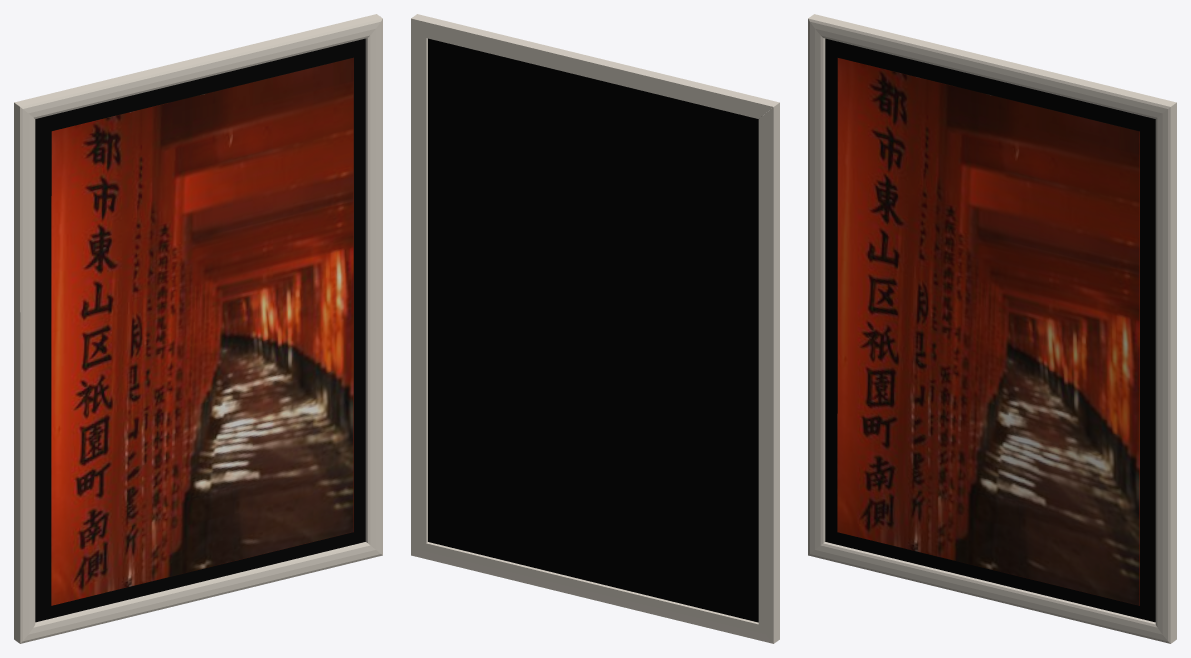
File: sweethome3d-contributions-frame-inari.glb
The picture shows the model from 3 angles, left to right: view 1: azimuth 30°, elevation 25°; view 2: azimuth 150°, elevation 25°; view 3: azimuth 330°, elevation 25°; orthographic projection.
Visible parts, largest first — view 1: Photo_Cube_Material_Inari.jpg, MetalFrame_Cylinder_Aluminium.006, Frame_Black_Material.007; view 2: Frame_Black_Material.007, MetalFrame_Cylinder_Aluminium.006; view 3: Photo_Cube_Material_Inari.jpg, MetalFrame_Cylinder_Aluminium.006, Frame_Black_Material.007.
Boxes of the visible parts, x1,y1,x2,y2 form: Photo_Cube_Material_Inari.jpg: (51,57,353,605); MetalFrame_Cylinder_Aluminium.006: (14,14,382,643); Frame_Black_Material.007: (35,38,365,622); Frame_Black_Material.007: (428,38,758,622); MetalFrame_Cylinder_Aluminium.006: (411,14,779,643); Photo_Cube_Material_Inari.jpg: (837,58,1139,605); MetalFrame_Cylinder_Aluminium.006: (808,14,1176,643); Frame_Black_Material.007: (825,38,1155,622).
Size of the model in its own units: 48 by 67.91 by 1.6.
Materials: 3 (1 with a texture image).
